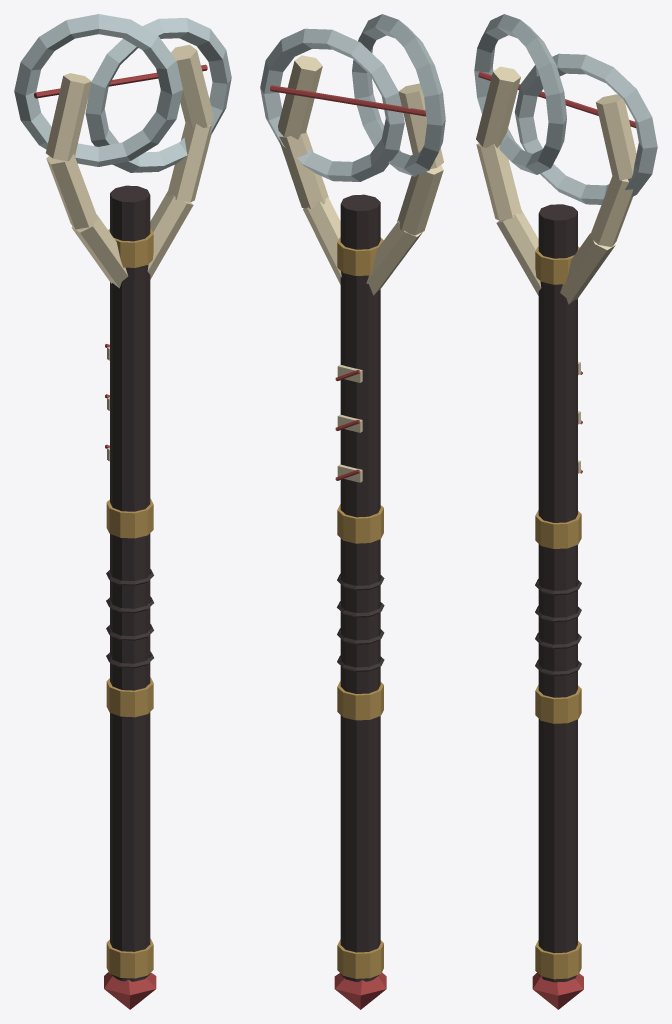
The model's file is DebtKingsFinger.fbx.
3 renders of one model, left to right at view 1: azimuth 30°, elevation 25°; view 2: azimuth 150°, elevation 25°; view 3: azimuth 330°, elevation 25°, orthographic. The views are drawn at different scales.
Visible parts, largest first — view 1: Legendary_DebtKingsFinger; view 2: Legendary_DebtKingsFinger; view 3: Legendary_DebtKingsFinger.
Boxes of the visible parts, x1,y1,x2,y2 form: Legendary_DebtKingsFinger: (14,14,231,1009); Legendary_DebtKingsFinger: (260,14,445,1009); Legendary_DebtKingsFinger: (474,14,657,1009).
Bounding box in the file's own units: 0.4583 × 2.2 × 0.1783.
